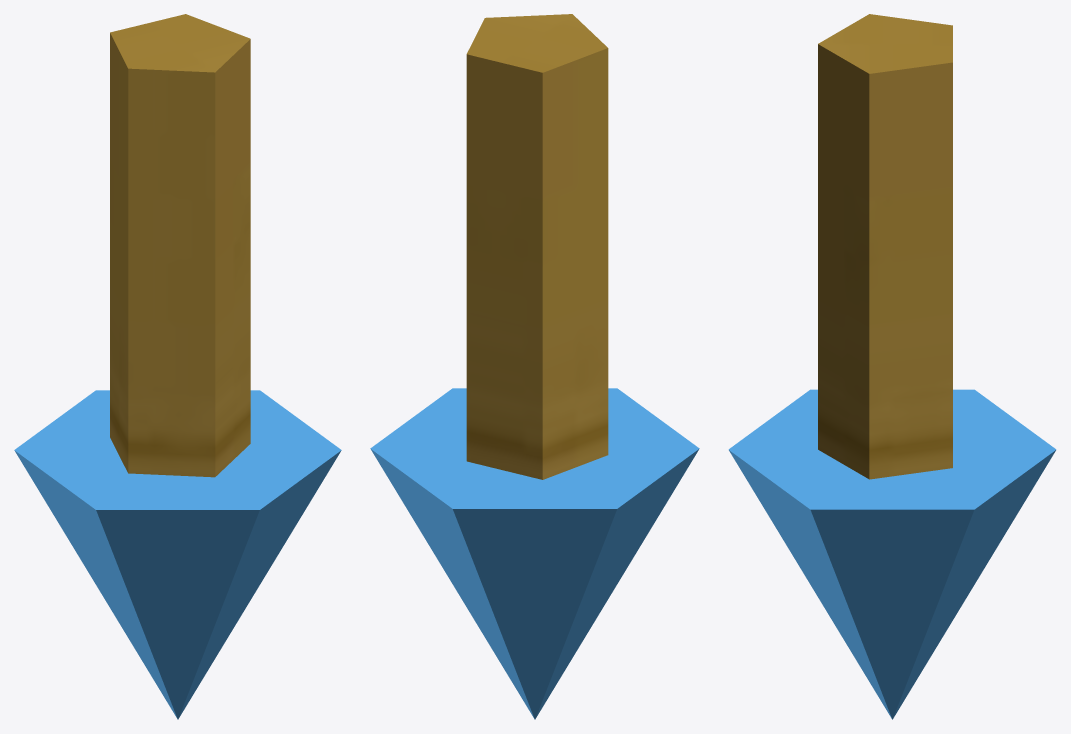
The model's file is acc_earring.glb.
3 renders of one model, left to right at view 1: azimuth 30°, elevation 25°; view 2: azimuth 150°, elevation 25°; view 3: azimuth 270°, elevation 25°, orthographic.
Parts seen in each view (by area): view 1: acc_earring; view 2: acc_earring; view 3: acc_earring.
Boxes of the visible parts, box(x1,y1,x2,y2) form: acc_earring: box(14, 14, 341, 719); acc_earring: box(370, 14, 699, 719); acc_earring: box(728, 14, 1056, 719).
Bounding box in the file's own units: 0.0381 × 0.1 × 0.044.
2 materials, 2 textured.
